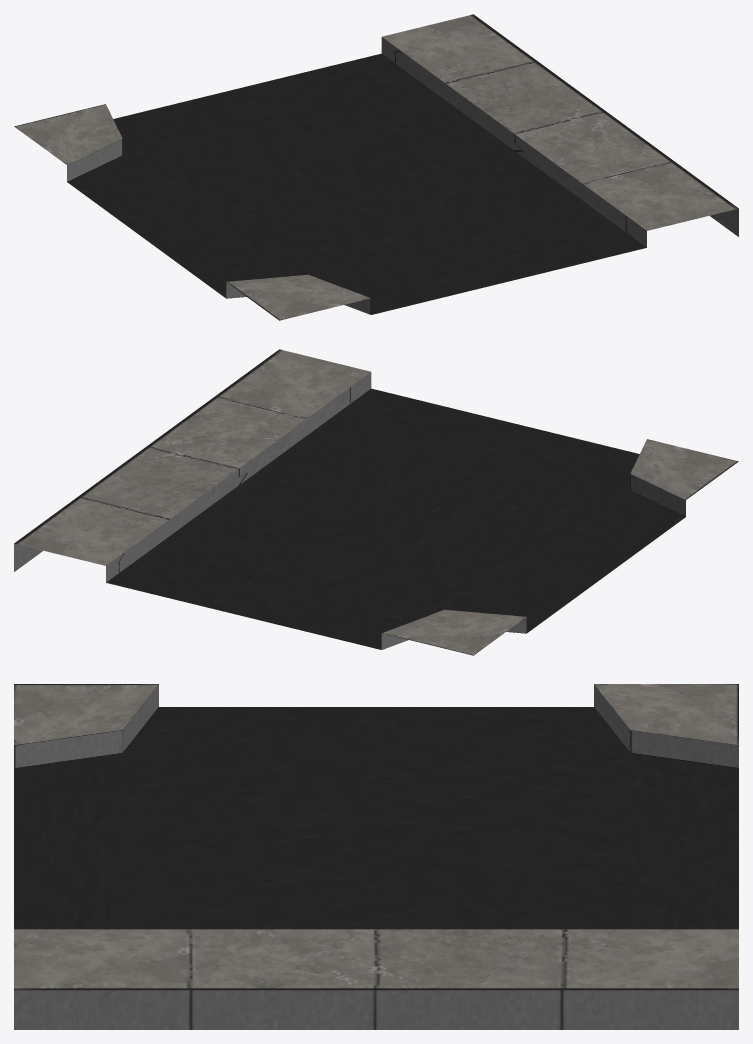
File: 2L-tcr.fbx
The picture shows the model from 3 angles, top to bottom: view 1: azimuth 30°, elevation 25°; view 2: azimuth 150°, elevation 25°; view 3: azimuth 270°, elevation 25°; orthographic projection. The views are drawn at different scales.
Parts seen in each view (by area): view 1: 2L-tcr_LOD0; view 2: 2L-tcr_LOD0; view 3: 2L-tcr_LOD0.
Boxes of the visible parts, x1,y1,x2,y2 form: 2L-tcr_LOD0: (14,14,738,320); 2L-tcr_LOD0: (14,349,738,655); 2L-tcr_LOD0: (14,684,738,1029).
Size of what is drawn, in the model's own units: 200 by 12 by 200.
